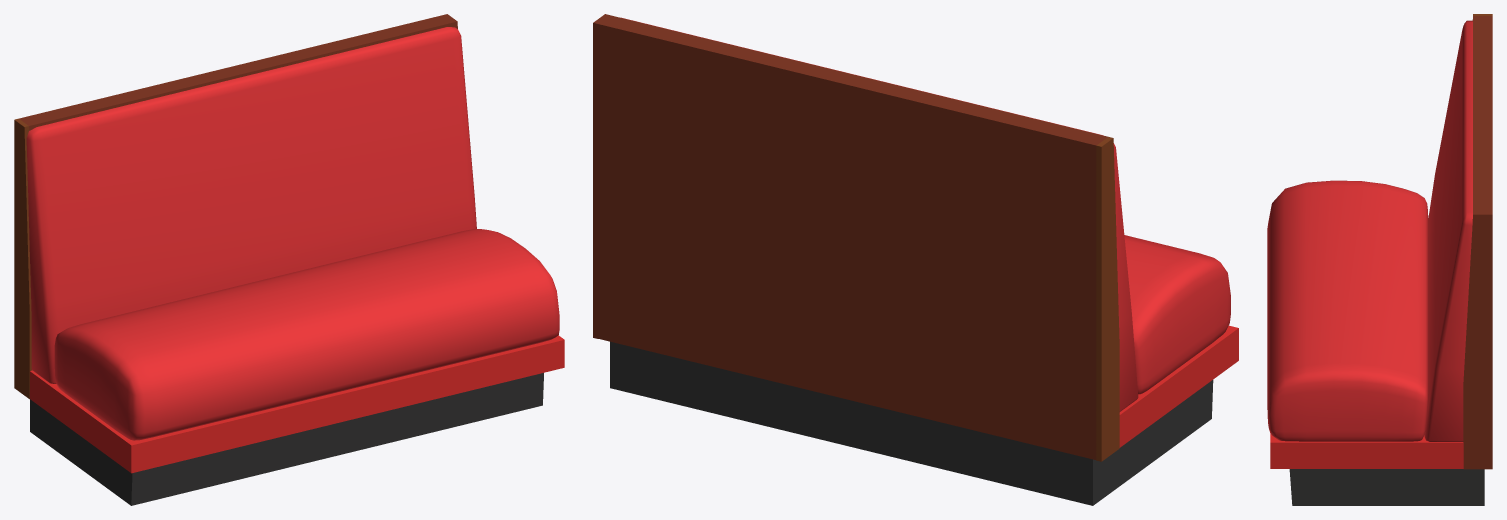
Rendered from sofa.fbx.
The picture shows the model from 3 angles, left to right: view 1: azimuth 30°, elevation 25°; view 2: azimuth 150°, elevation 25°; view 3: azimuth 270°, elevation 25°; orthographic projection. The views are drawn at different scales.
Parts seen in each view (by area): view 1: Box006, Cube.001, Cube, Cube.002; view 2: Cube, Box006, Cube.002, Cube.001; view 3: Box006, Cube, Cube.001.
Part boxes in pixels (x1,y1,x2,y2): Box006: [26, 27, 559, 505]; Cube.001: [30, 335, 564, 473]; Cube: [19, 14, 457, 130]; Cube.002: [14, 118, 32, 399]; Cube: [593, 14, 1107, 459]; Box006: [610, 17, 1230, 505]; Cube.002: [1096, 137, 1119, 461]; Cube.001: [1119, 325, 1238, 447]; Box006: [1267, 20, 1484, 505]; Cube: [1463, 16, 1492, 469]; Cube.001: [1270, 433, 1463, 468].
Bounding box in the file's own units: 68.77 × 47.29 × 32.6.
